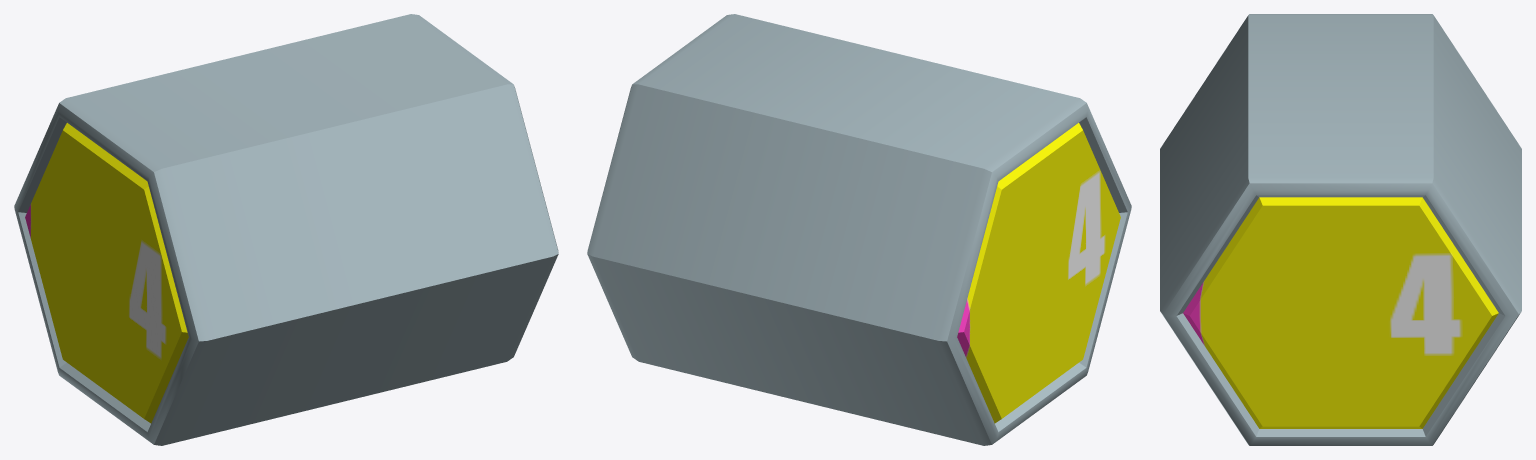
File: NUMBERS.fbx
3 renders of one model, left to right at view 1: azimuth 30°, elevation 25°; view 2: azimuth 150°, elevation 25°; view 3: azimuth 270°, elevation 25°, orthographic. The views are drawn at different scales.
Visible parts, largest first — view 1: Numbers; view 2: Numbers; view 3: Numbers.
Boxes of the visible parts, left/top/right/bottom form: Numbers: left=14, top=14, right=558, bottom=445; Numbers: left=587, top=14, right=1131, bottom=445; Numbers: left=1160, top=14, right=1521, bottom=445.
Bounding box in the file's own units: 88.85 × 100 × 72.4.
